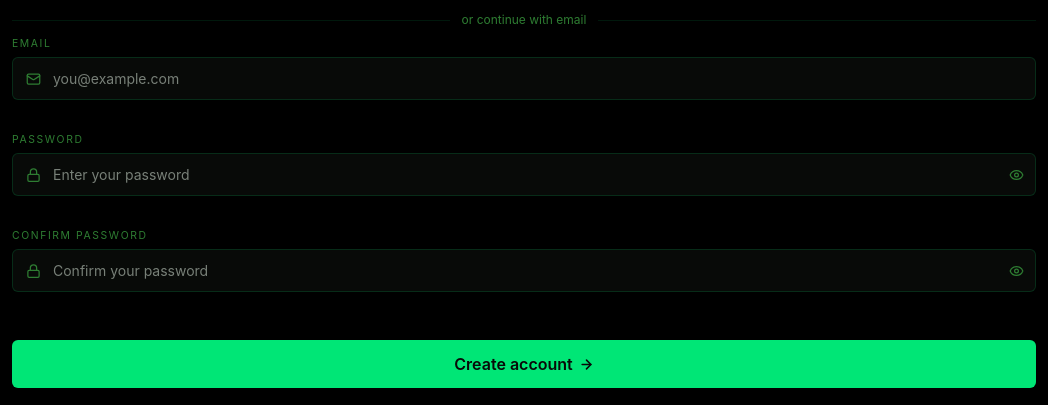
Test: AuthForm › validation errors › should display a mismatch error on confirmPassword in register mode
Type "a@b.com" into the field with placeholder "you@example.com".
click(524, 79); type("a@b.com")  # box [12,57,1036,100]
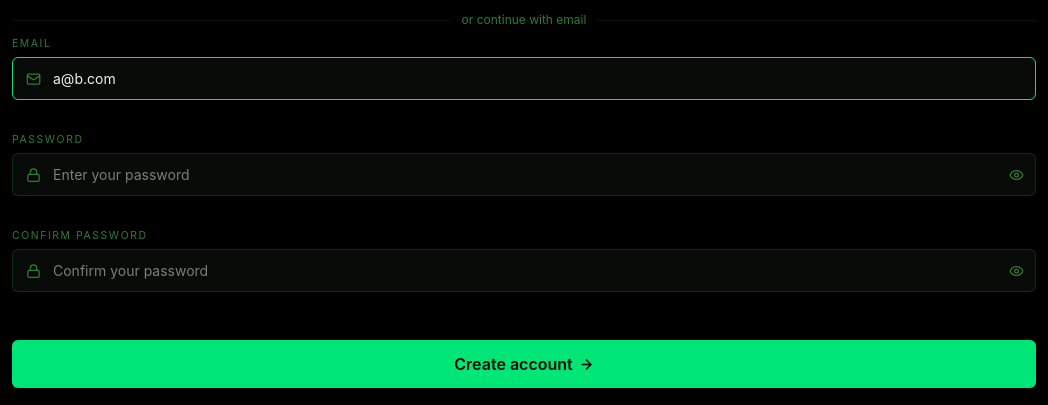
Type "123456" into the password field with placeholder "Enter your password".
click(524, 175); type("123456")  # box [12,153,1036,196]
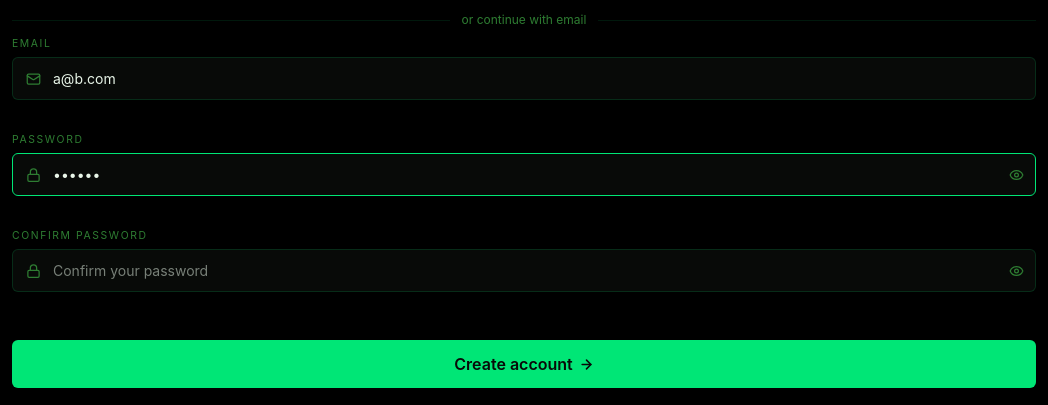
Type "654321" into the password field with placeholder "Confirm your password".
click(524, 271); type("654321")  # box [12,249,1036,292]
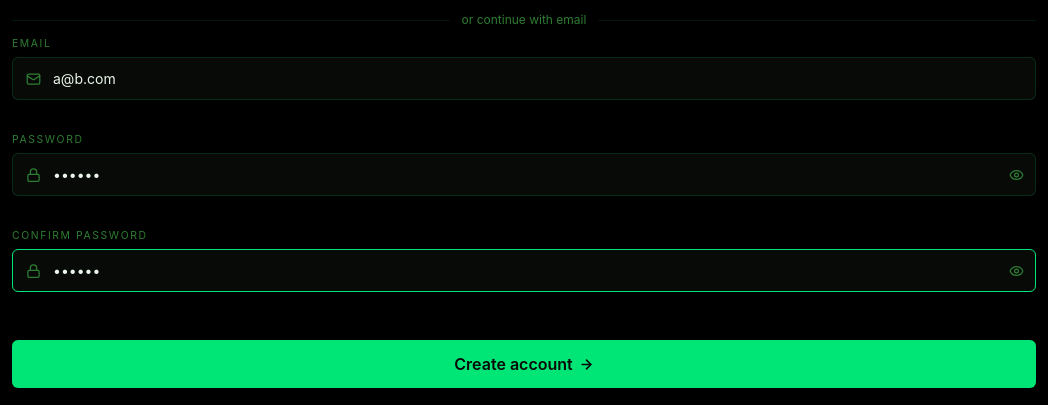
Click the button "Create account".
click(524, 364)  # box [12,340,1036,388]
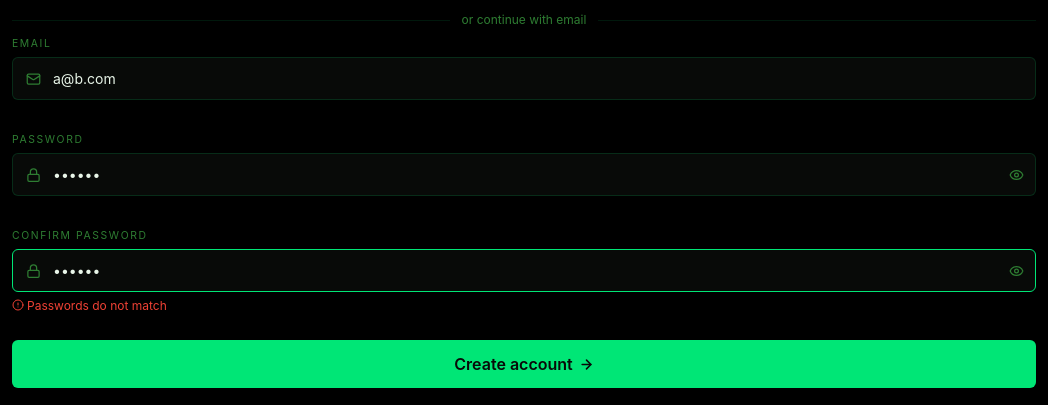
expect the text "Passwords do not match" is shown: met, box [12,298,167,313]
